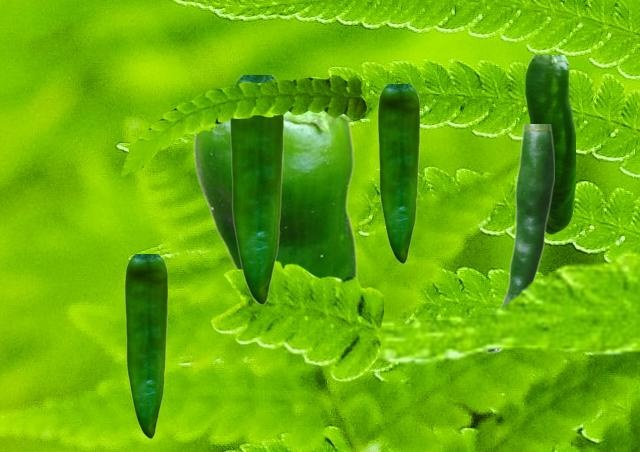green_chili: (192, 111, 356, 278), (487, 124, 553, 352), (229, 75, 283, 303), (525, 55, 574, 233), (124, 254, 167, 437), (377, 84, 419, 262)
